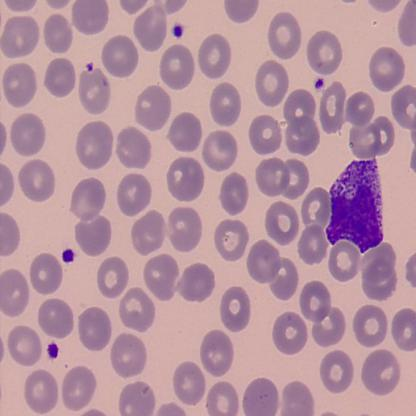Metamyelocyte: (324, 156, 386, 254)
